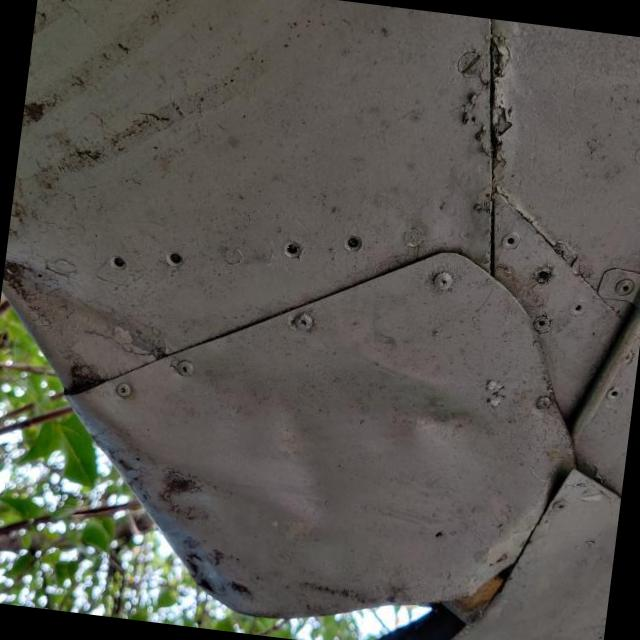Dent: (73, 270, 535, 595)
